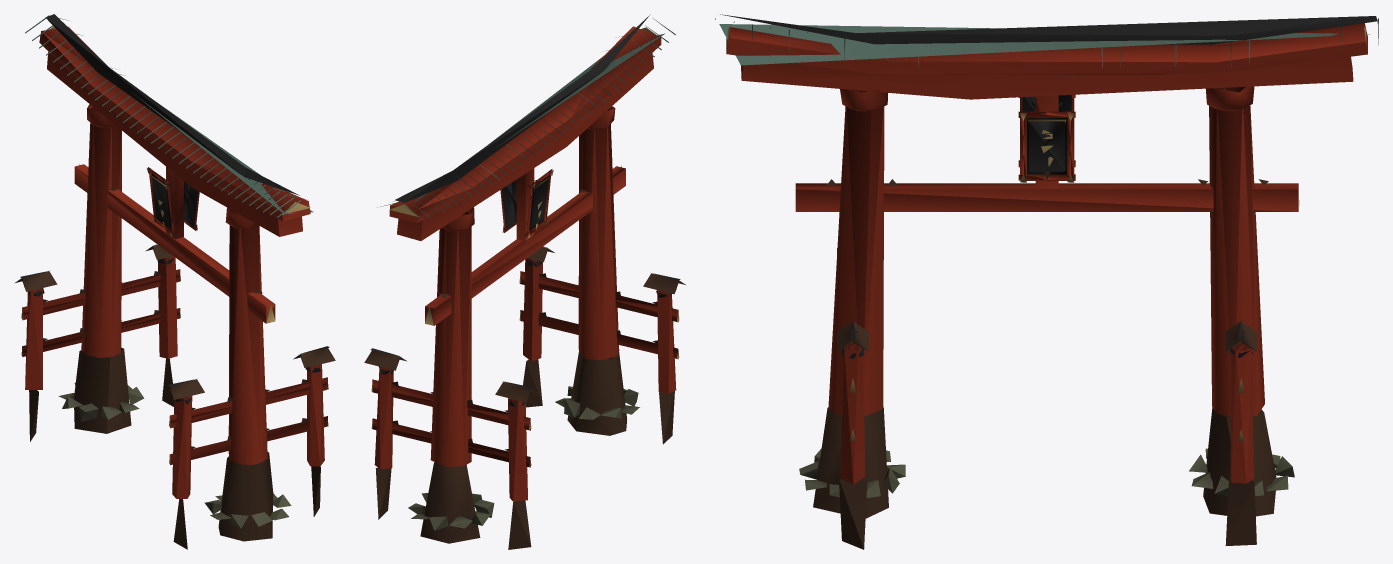
Rendered from SM_Torii_Lake.glb.
3 views of the same model, side by side, from view 1: azimuth 30°, elevation 25°; view 2: azimuth 150°, elevation 25°; view 3: azimuth 270°, elevation 25° (orthographic). The views are drawn at different scales.
Parts seen in each view (by area): view 1: SM_Torii_Lake; view 2: SM_Torii_Lake; view 3: SM_Torii_Lake.
Part boxes in pixels (left/top/right/bottom): SM_Torii_Lake: left=14, top=14, right=335, bottom=549; SM_Torii_Lake: left=364, top=14, right=685, bottom=549; SM_Torii_Lake: left=715, top=14, right=1378, bottom=549.
Size of the model in its own units: 5.83 by 12.76 by 15.73.
